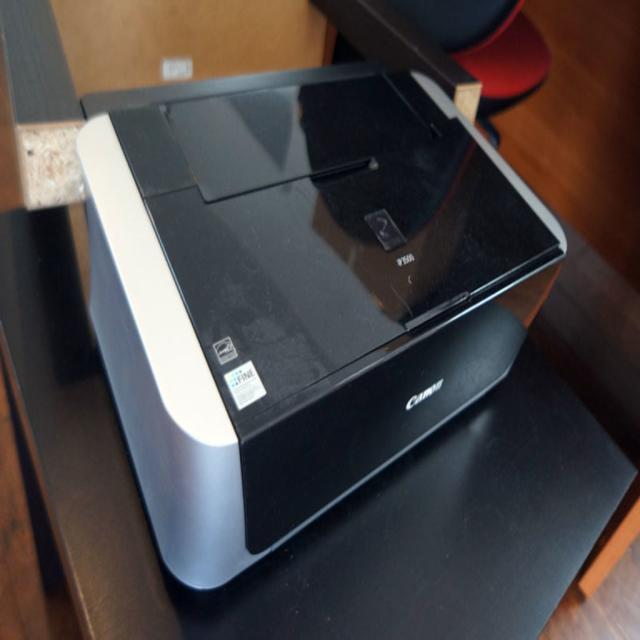printer: (61, 79, 579, 502)
